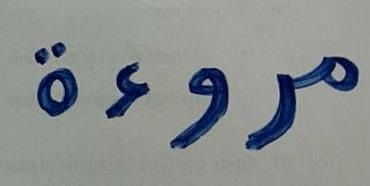hamza: (96, 34, 161, 141)
meem: (307, 22, 360, 130)
reh: (242, 45, 302, 162)
teh_marbota: (21, 15, 93, 154)
waw: (165, 45, 236, 160)
